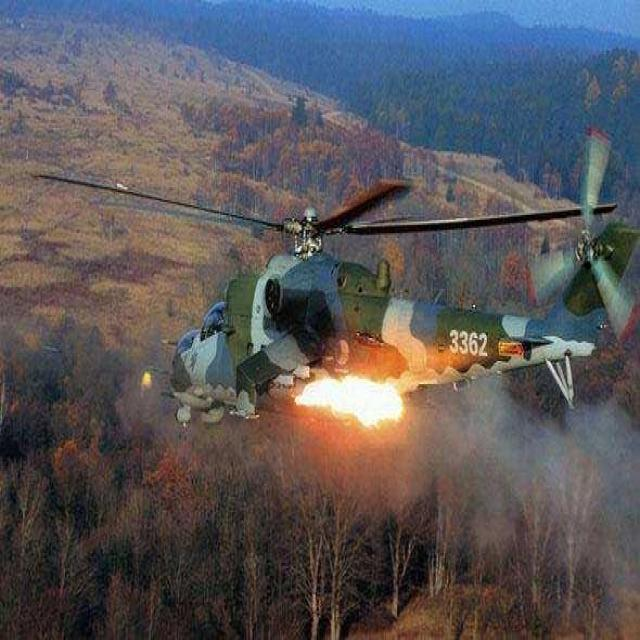MIL_HELO: (47, 151, 632, 453)
